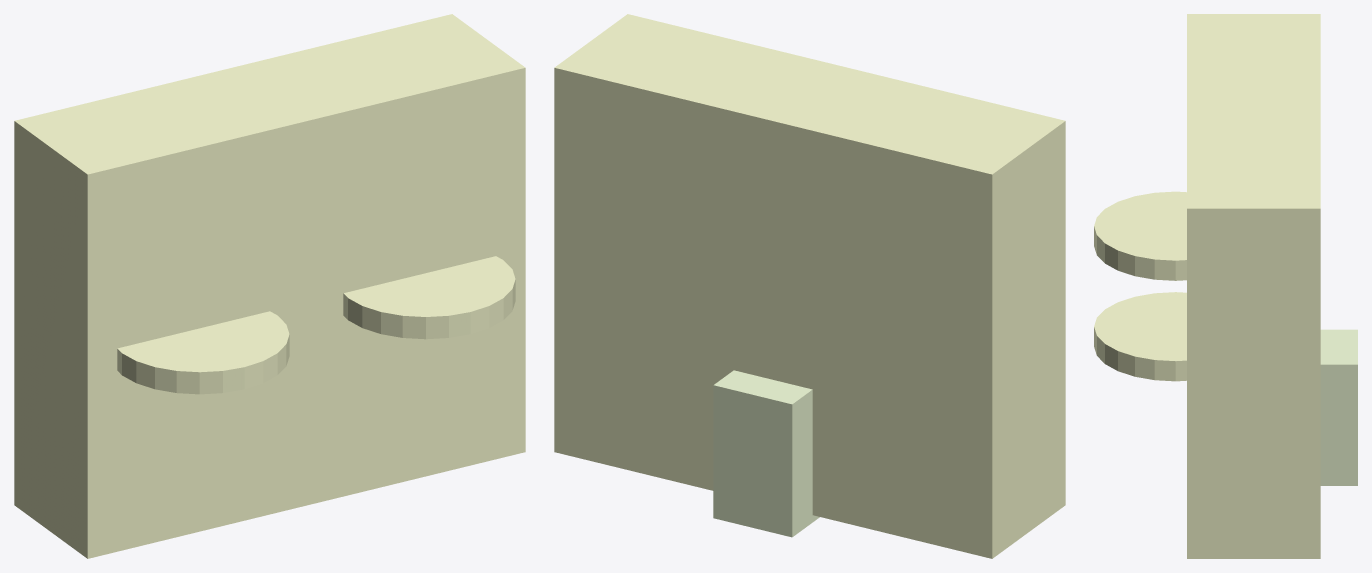
File: signal_preemption_beacon_dual_lunar_box.glb
The picture shows the model from 3 angles, left to right: view 1: azimuth 30°, elevation 25°; view 2: azimuth 150°, elevation 25°; view 3: azimuth 270°, elevation 25°; orthographic projection. The views are drawn at different scales.
Parts seen in each view (by area): view 1: housing, lens_preempt_left, lens_preempt_right; view 2: housing, bracket; view 3: housing, lens_preempt_left, lens_preempt_right, bracket.
Part boxes in pixels (left/top/right/bottom): housing: left=14, top=14, right=525, bottom=558; lens_preempt_left: left=117, top=311, right=289, bottom=394; lens_preempt_right: left=343, top=256, right=515, bottom=339; housing: left=554, top=14, right=1065, bottom=558; bracket: left=713, top=370, right=819, bottom=537; housing: left=1187, top=14, right=1320, bottom=558; lens_preempt_left: left=1094, top=191, right=1186, bottom=280; lens_preempt_right: left=1094, top=292, right=1186, bottom=381; bracket: left=1320, top=329, right=1357, bottom=485.
Size of the model in its own units: 0.62 by 0.53 by 0.355.
